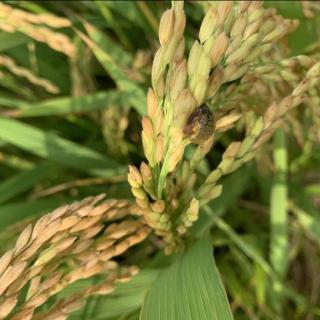Gosong-Palsu: (182, 102, 218, 145)
